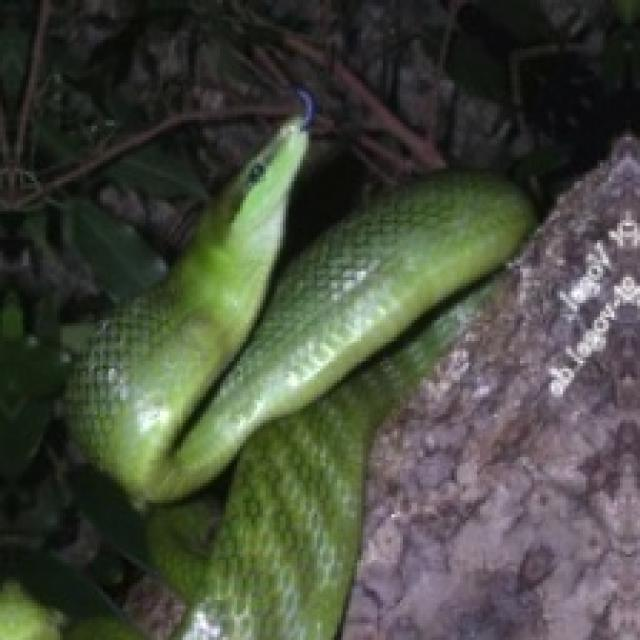red-tailed green ratsnake: (69, 114, 531, 637)
